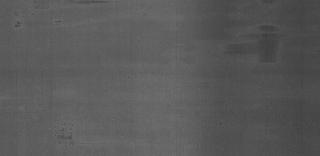water spot: (54, 126, 80, 152)
